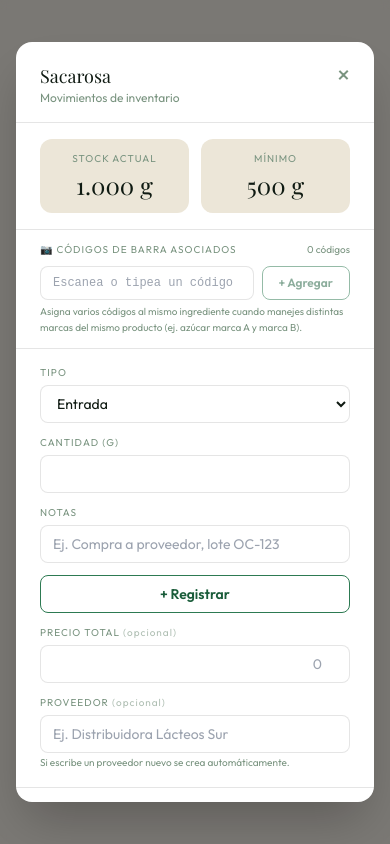
Test: InventoryModal — basic recording › autocreates a new supplier when typed name does not exist
Type "1000" into the number field labelled "Cantidad (g)" at (195,474), box top-left (40, 455), bottom-right (350, 493)
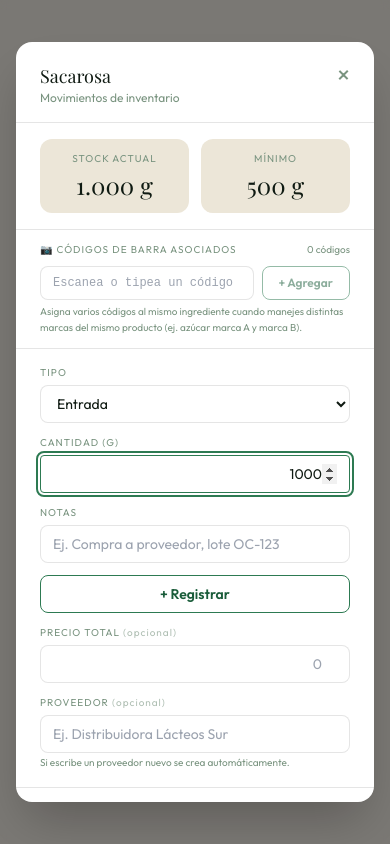
Type "Lacteos Nuevos" into the field with placeholder "Ej. Distribuidora Lácteos Sur" at (195,734), box top-left (40, 715), bottom-right (350, 753)
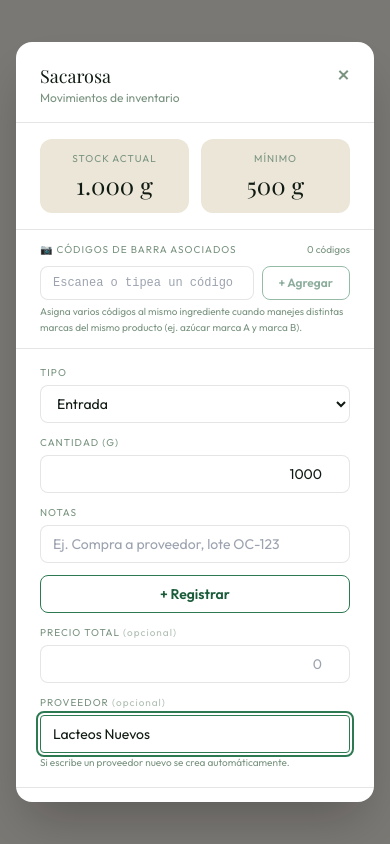
Click the button "+ Registrar" at (195,594), box top-left (40, 575), bottom-right (350, 613)
(page scrolled)
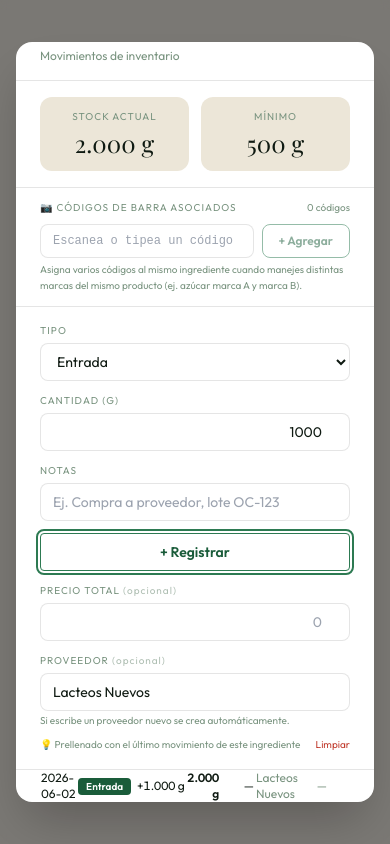
Expected: the cell "Lacteos Nuevos" is shown, top-left (255, 770), bottom-right (316, 802)
